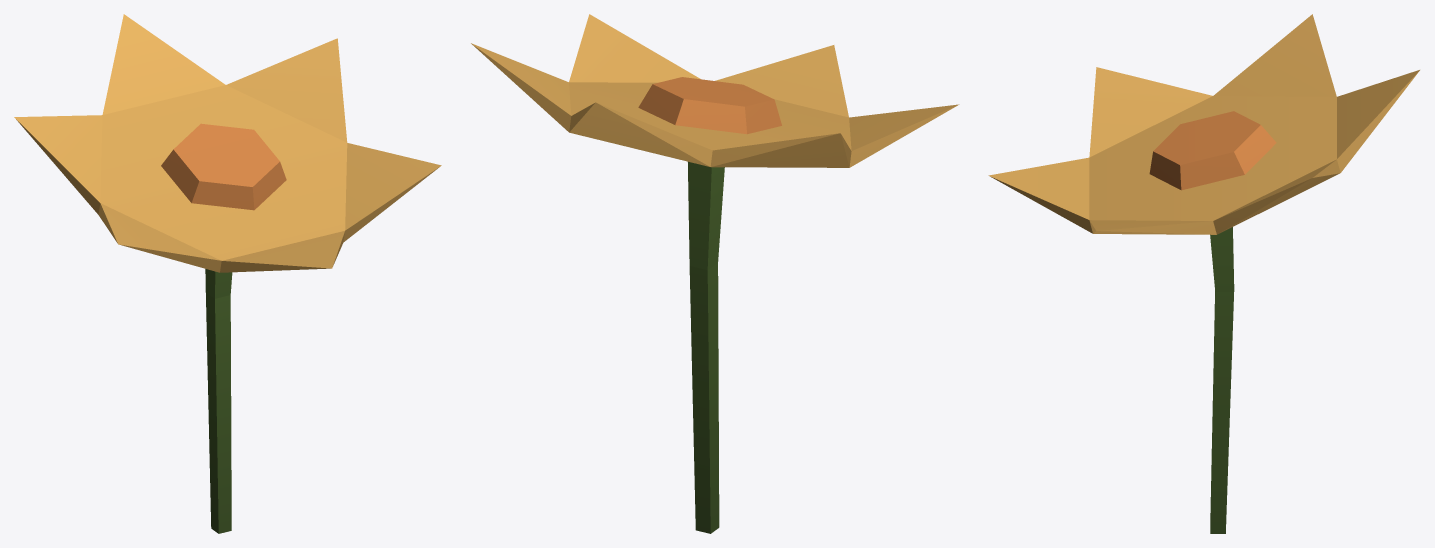
File: Env_Flowers_01.obj
3 renders of one model, left to right at view 1: azimuth 30°, elevation 25°; view 2: azimuth 150°, elevation 25°; view 3: azimuth 270°, elevation 25°, orthographic. The views are drawn at different scales.
Visible parts, largest first — view 1: Env_Flowers_01; view 2: Env_Flowers_01; view 3: Env_Flowers_01.
Part boxes in pixels (bbox=[...]): Env_Flowers_01: bbox=[14, 14, 441, 533]; Env_Flowers_01: bbox=[471, 14, 959, 533]; Env_Flowers_01: bbox=[988, 14, 1419, 533].
Bounding box in the file's own units: 0.2458 × 0.3224 × 0.274.
Materials: 1 (1 with a texture image).
